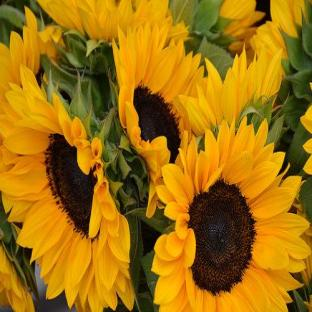sunflower: (0, 64, 135, 312), (151, 118, 311, 312)
